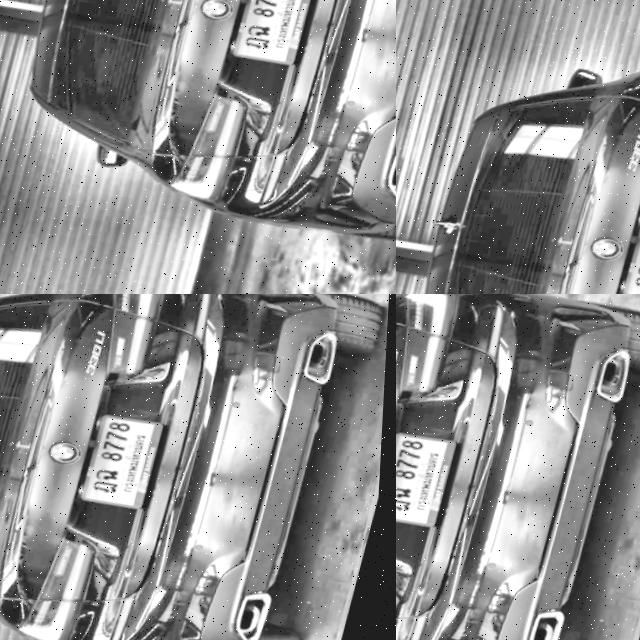license-plate: (396, 431, 464, 534)
